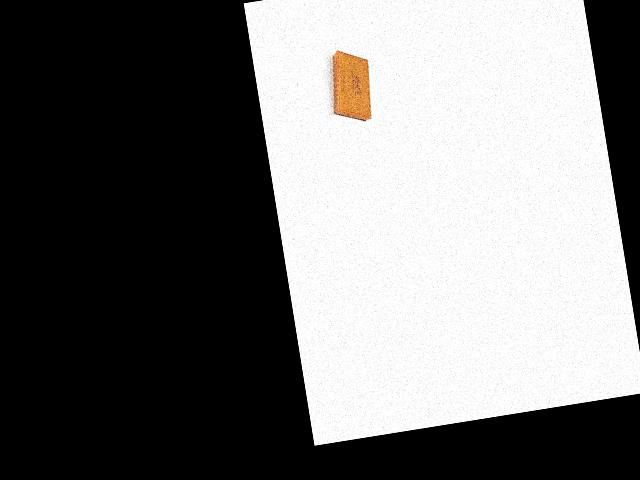chocolate: (318, 46, 380, 128)
